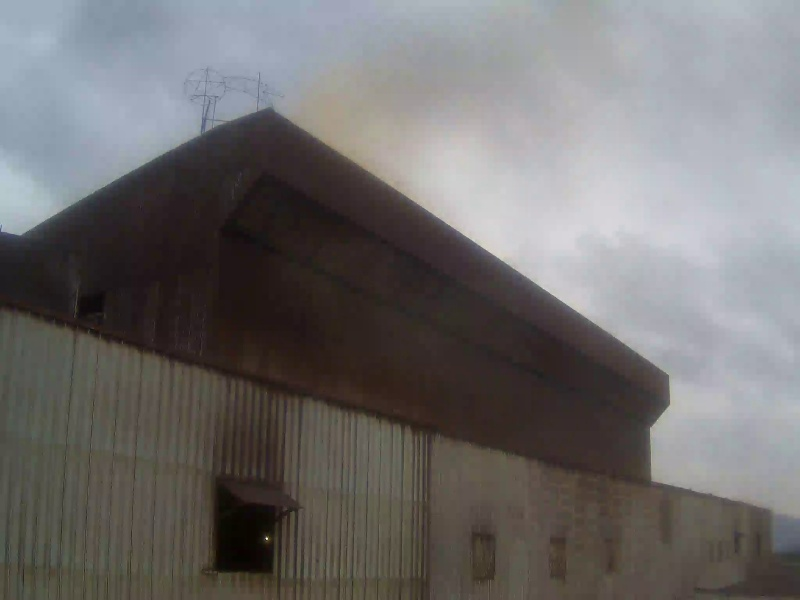bom: (632, 207, 800, 408), (21, 12, 196, 147)
ruim: (303, 75, 429, 191)
